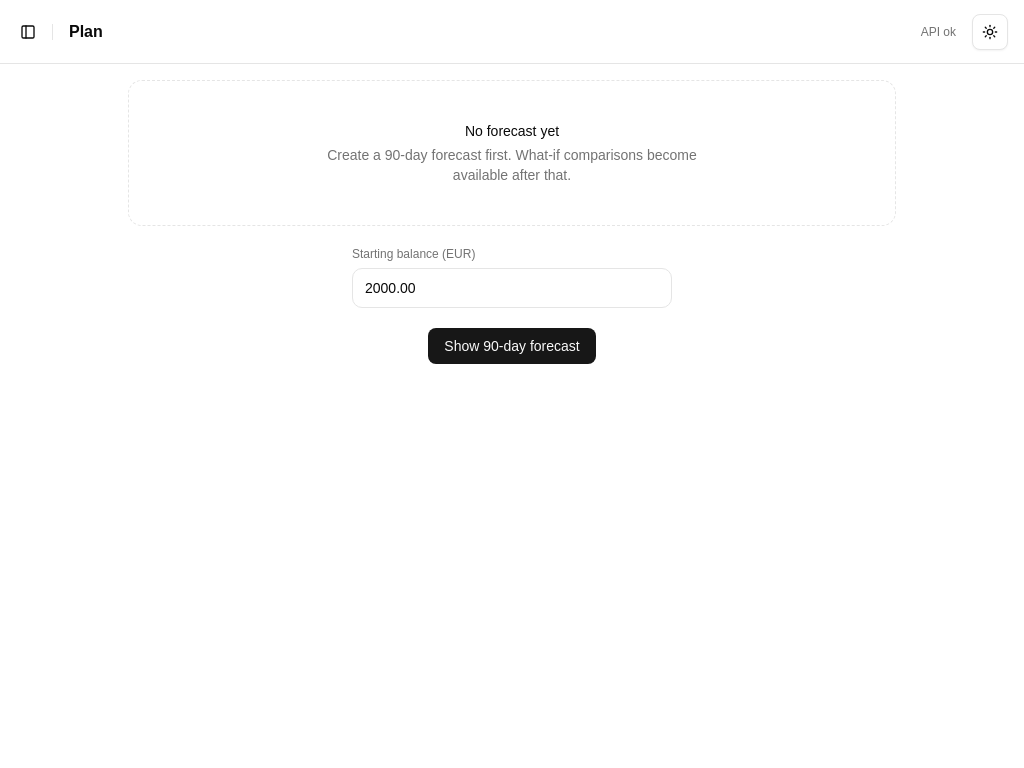
Test: Plan page › separates forecast and what-if into tabs
Check: the heading "Plan" is shown, box [69,20,103,44]
Check: the text "No forecast yet" is shown, box [465,123,559,139]
Click the button "Show 90-day forecast" at (512, 346), box [428,328,596,364]
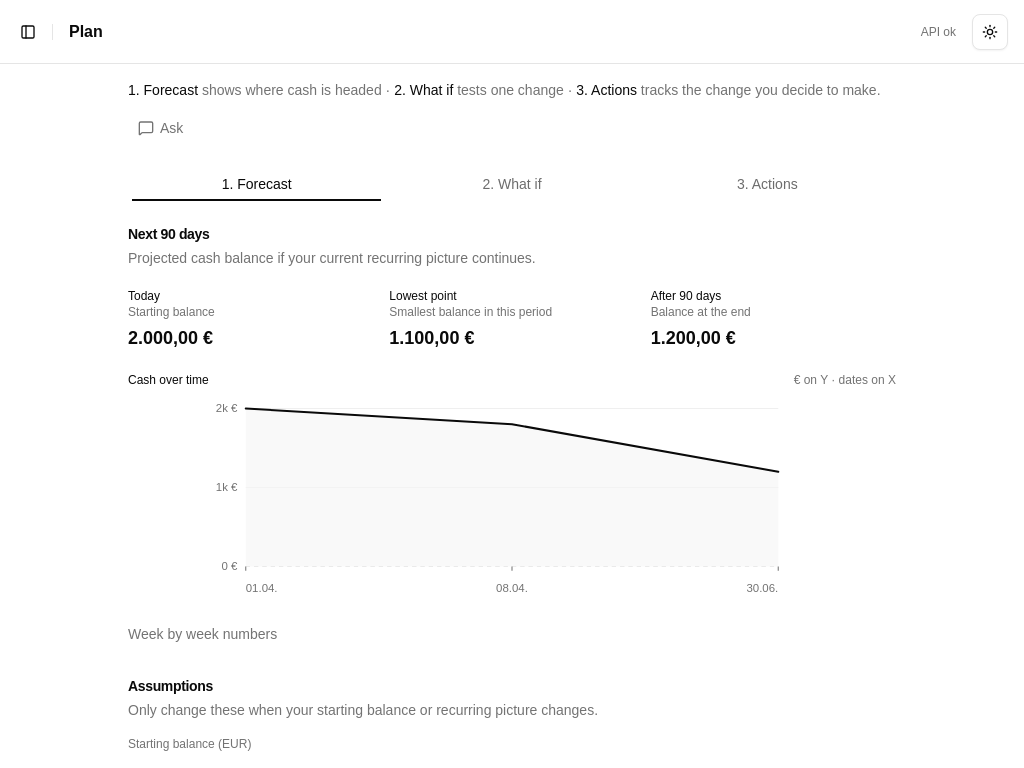
Check: the tab "1. Forecast" is shown, box [131,172,382,196]
Check: the tab "2. What if" is shown
Check: the tab "3. Actions" is shown, box [642,172,893,196]
Click the tab "2. What if" at (512, 184), box [386,172,638,196]
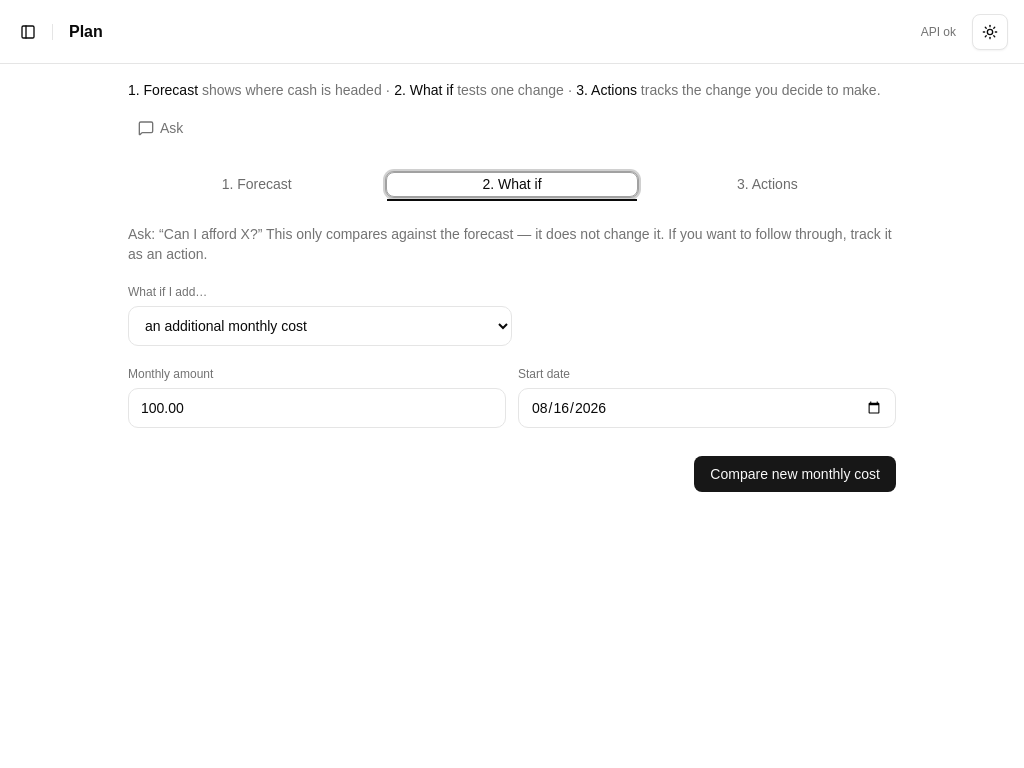
Check: the button "Compare new monthly cost" is shown, box [694,456,896,492]
